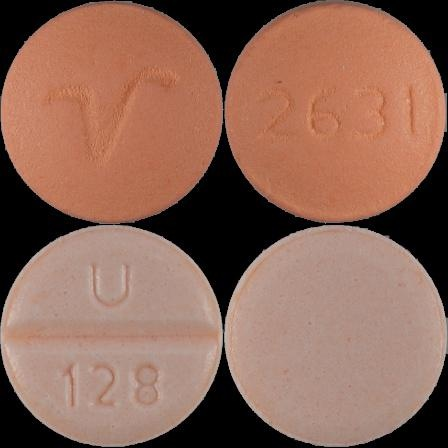55700-004: (0, 0, 224, 224)
